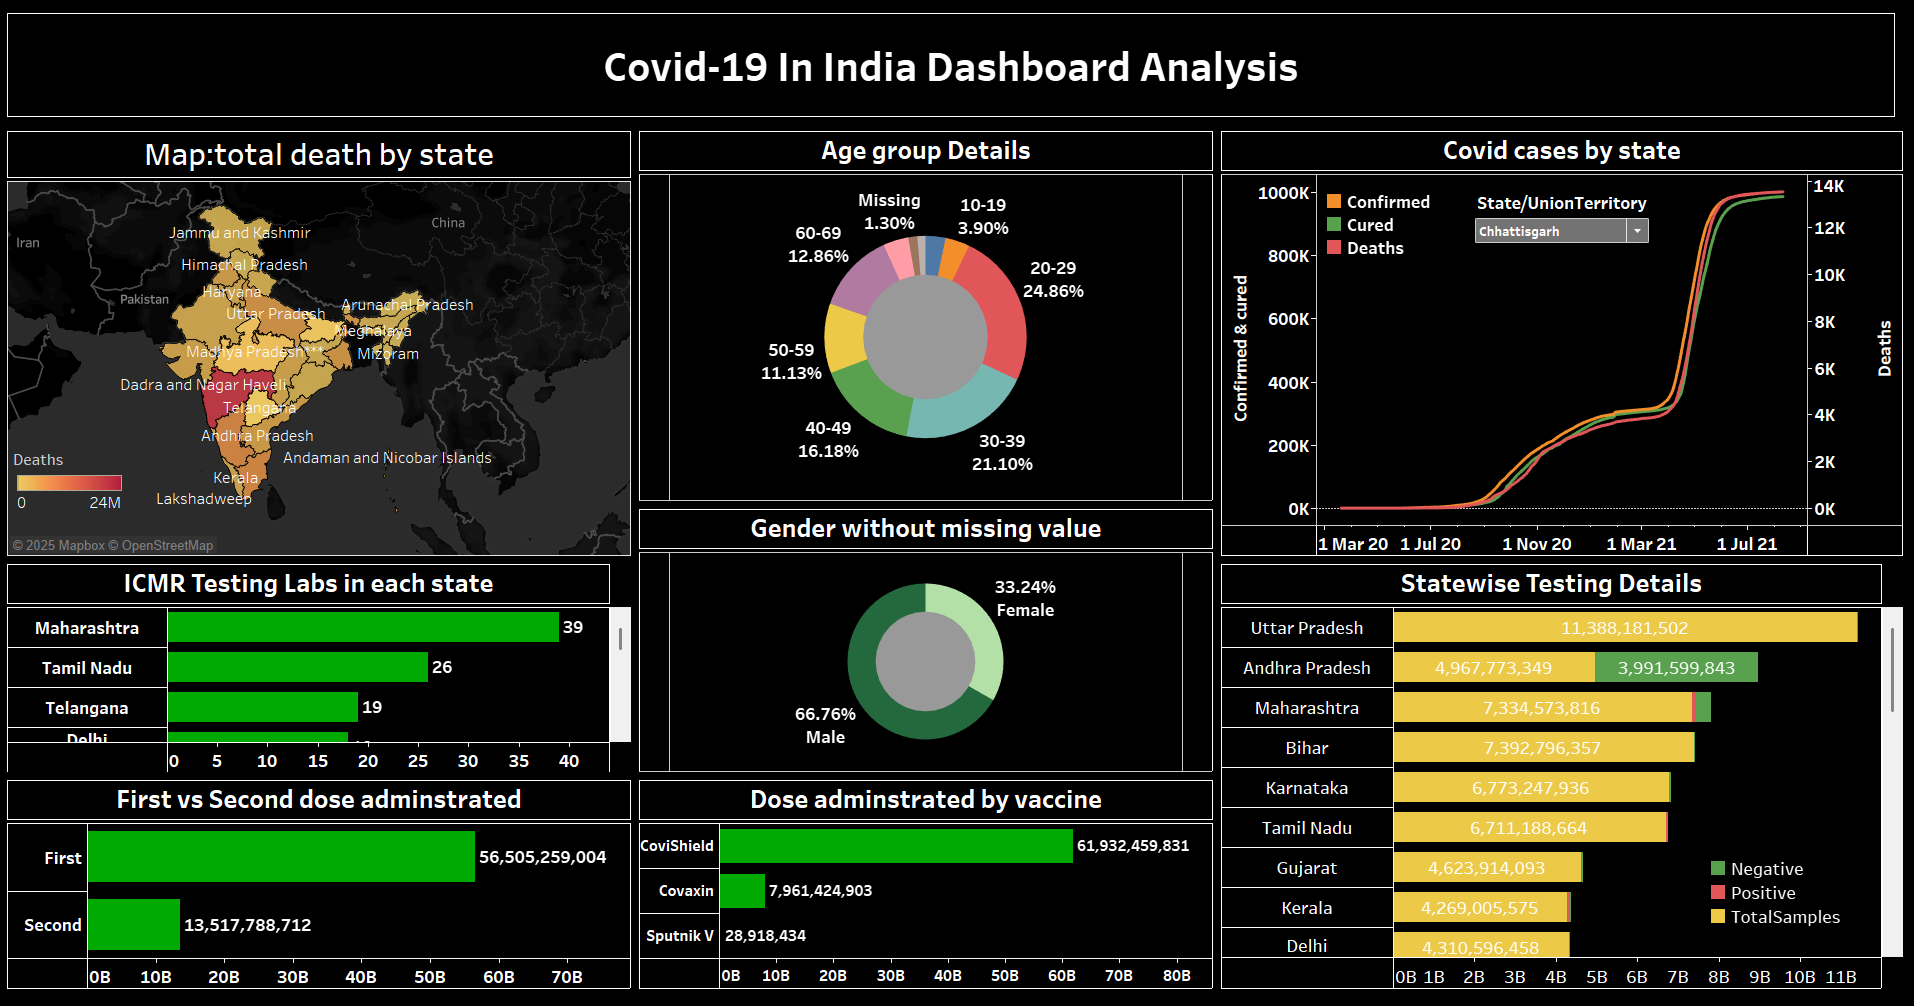

This screenshot's page, from the dashboard's own definition file:
{"tool":"tableau","page":{"name":"Dashboard 1","canvas":[1920,1000],"ordinal":0},"visuals":[{"type":"worksheet","title":"Title","mark":"Automatic","box":[8,8,1904,118]},{"type":"worksheet","title":"Map:total death by state","mark":"Multipolygon","box":[8,126,631.6,433]},{"type":"worksheet","title":"Age group Details","mark":"Pie","rows":["Calculation_173388616817934341","Calculation_173388616817963015"],"box":[639.6,126,582.1,378.5]},{"type":"worksheet","title":"Covid cases by state","mark":"Automatic","rows":["Deaths"],"cols":["Date"],"box":[1221.7,126,690.3,433]},{"type":"legend","title":"Covid cases by state","param":"[federated.1yvjdqe1073y7y1ff8d140zqv3jo].[:Measure Names]","box":[1327.8,188.9,149.5,86.7]},{"type":"filter","title":"Covid cases by state","param":"[federated.1yvjdqe1073y7y1ff8d140zqv3jo].[none:State/UnionTerritory:nk]","box":[1477.4,190,179.9,77.8]},{"type":"legend","title":"Map:total death by state","param":"[federated.1yvjdqe1073y7y1ff8d140zqv3jo].[sum:Deaths:qk]","box":[18.1,447.5,113.1,98.8]},{"type":"worksheet","title":"Gender without missing value","mark":"Pie","rows":["Calculation_173388616822030345","Calculation_173388616822050827"],"box":[639.6,504.4,582.1,271.1]},{"type":"worksheet","title":"ICMR Testing Labs in each state","mark":"Automatic","rows":["state"],"cols":["lab"],"box":[8,559,631.6,216.5]},{"type":"worksheet","title":"Statewise Testing Details","mark":"Automatic","rows":["State"],"box":[1221.7,559,690.3,433]},{"type":"worksheet","title":"First vs Second dose adminstrated","mark":"Automatic","box":[8,775.5,631.6,216.5]},{"type":"worksheet","title":"Dose adminstrated by vaccine","mark":"Automatic","box":[639.6,775.5,582.1,216.5]},{"type":"legend","title":"Statewise Testing Details","param":"[federated.01fbp3t1x58b231cpqk34049gv8m].[:Measure Names]","box":[1710.9,855,149.3,90]}]}

Visuals, with their boxes in screenshot pixels (x1, y1, x2, y2), scaled from the page's 1920x1000 canvas onto the 1914x1006 screenshot:
"Title" worksheet: bbox(8, 8, 1906, 127)
"Map:total death by state" worksheet (Multipolygon marks): bbox(8, 127, 638, 562)
"Age group Details" worksheet (Pie marks): bbox(638, 127, 1218, 508)
"Covid cases by state" worksheet: bbox(1218, 127, 1906, 562)
"Covid cases by state" legend: bbox(1324, 190, 1473, 277)
"Covid cases by state" filter: bbox(1473, 191, 1652, 269)
"Map:total death by state" legend: bbox(18, 450, 131, 550)
"Gender without missing value" worksheet (Pie marks): bbox(638, 507, 1218, 780)
"ICMR Testing Labs in each state" worksheet: bbox(8, 562, 638, 780)
"Statewise Testing Details" worksheet: bbox(1218, 562, 1906, 998)
"First vs Second dose adminstrated" worksheet: bbox(8, 780, 638, 998)
"Dose adminstrated by vaccine" worksheet: bbox(638, 780, 1218, 998)
"Statewise Testing Details" legend: bbox(1706, 860, 1854, 951)
